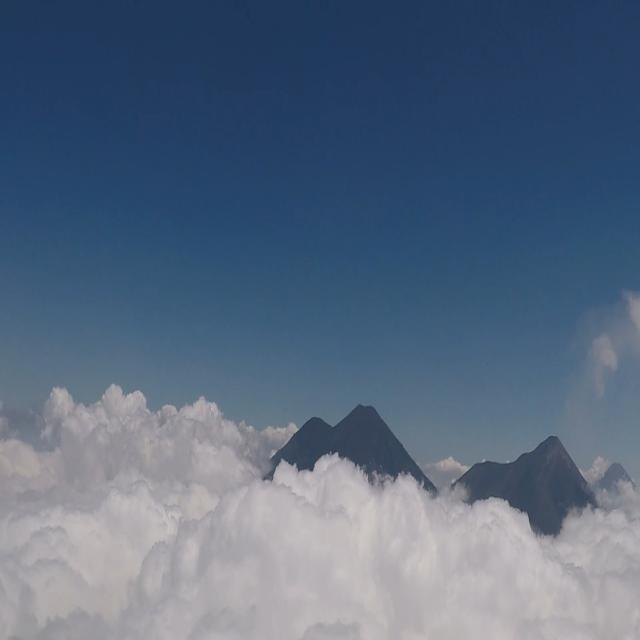Summit: (511, 430, 585, 482)
